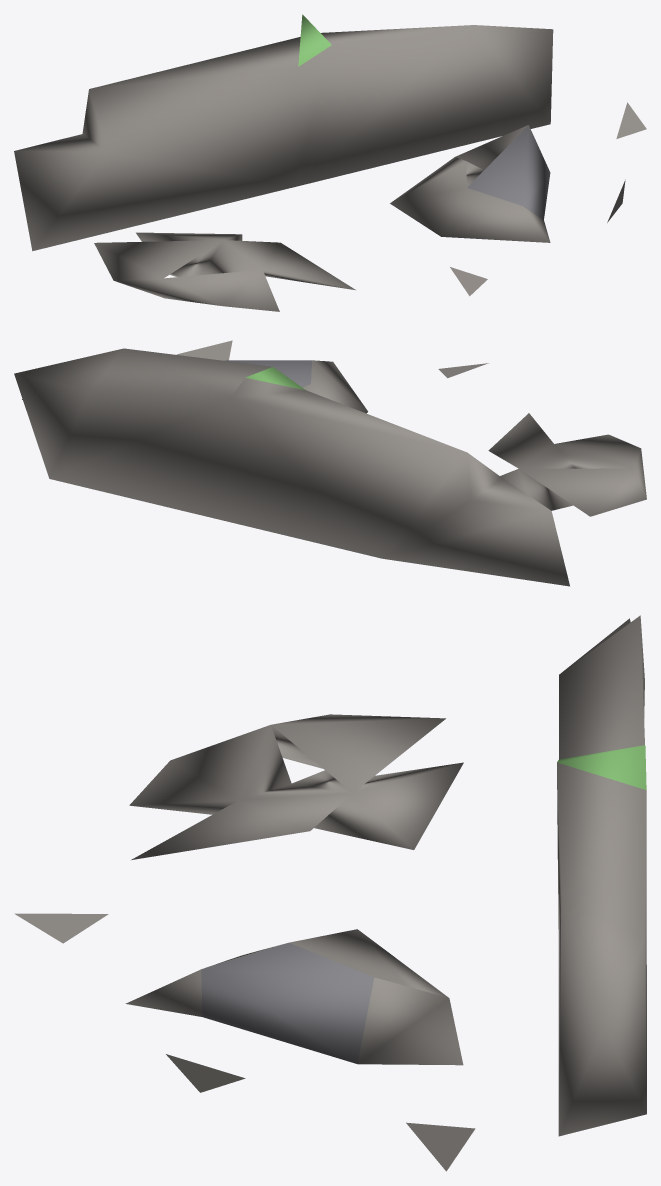
Rendered from poi_ruin_wall_c_far.glb.
3 renders of one model, top to bottom at view 1: azimuth 30°, elevation 25°; view 2: azimuth 150°, elevation 25°; view 3: azimuth 270°, elevation 25°, orthographic. The views are drawn at different scales.
Visible parts, largest first — view 1: poi_ruin_wall_c_far; view 2: poi_ruin_wall_c_far; view 3: poi_ruin_wall_c_far.
Part boxes in pixels (box(x1,y1,x2,y2)): poi_ruin_wall_c_far: box(14, 14, 646, 311); poi_ruin_wall_c_far: box(14, 340, 646, 586); poi_ruin_wall_c_far: box(14, 615, 646, 1171).
Bounding box in the file's own units: 6.96 × 1.72 × 4.27.
